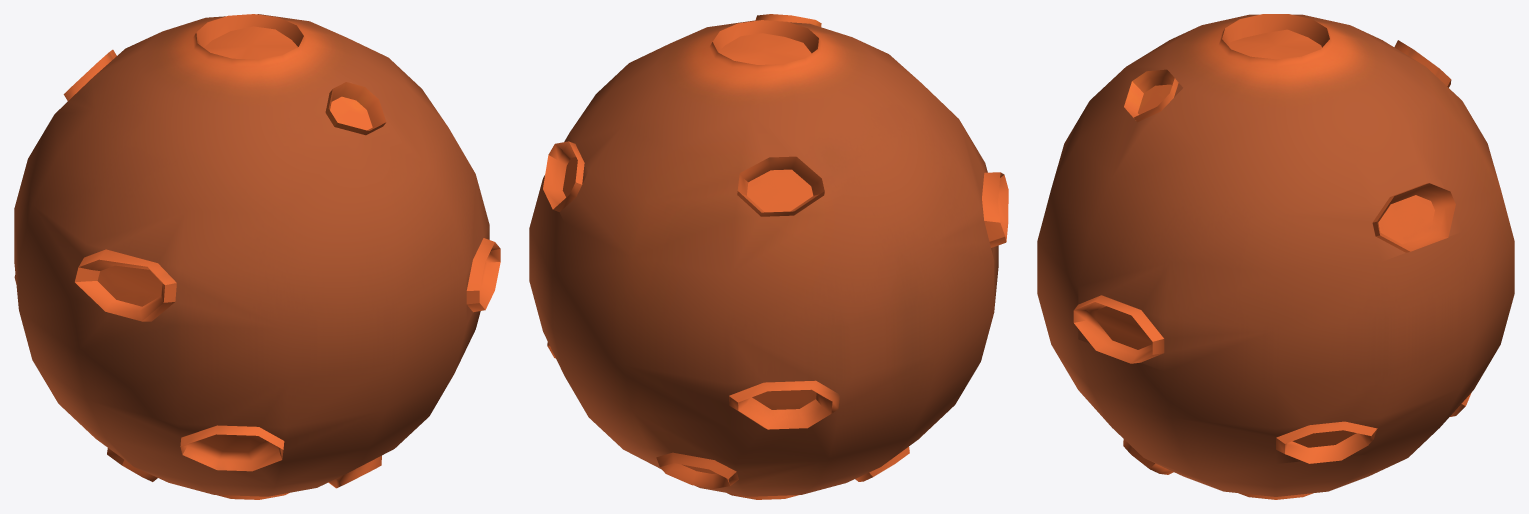
Rendered from space_comet.glb.
3 views of the same model, side by side, from view 1: azimuth 30°, elevation 25°; view 2: azimuth 150°, elevation 25°; view 3: azimuth 270°, elevation 25° (orthographic).
Parts seen in each view (by area): view 1: pSphere1; view 2: pSphere1; view 3: pSphere1.
Boxes of the visible parts, left/top/right/bottom form: pSphere1: left=14, top=14, right=500, bottom=499; pSphere1: left=529, top=14, right=1008, bottom=499; pSphere1: left=1037, top=14, right=1514, bottom=499.
Size of the model in its own units: 149 by 150 by 148.
Materials: 1 (1 with a texture image).
